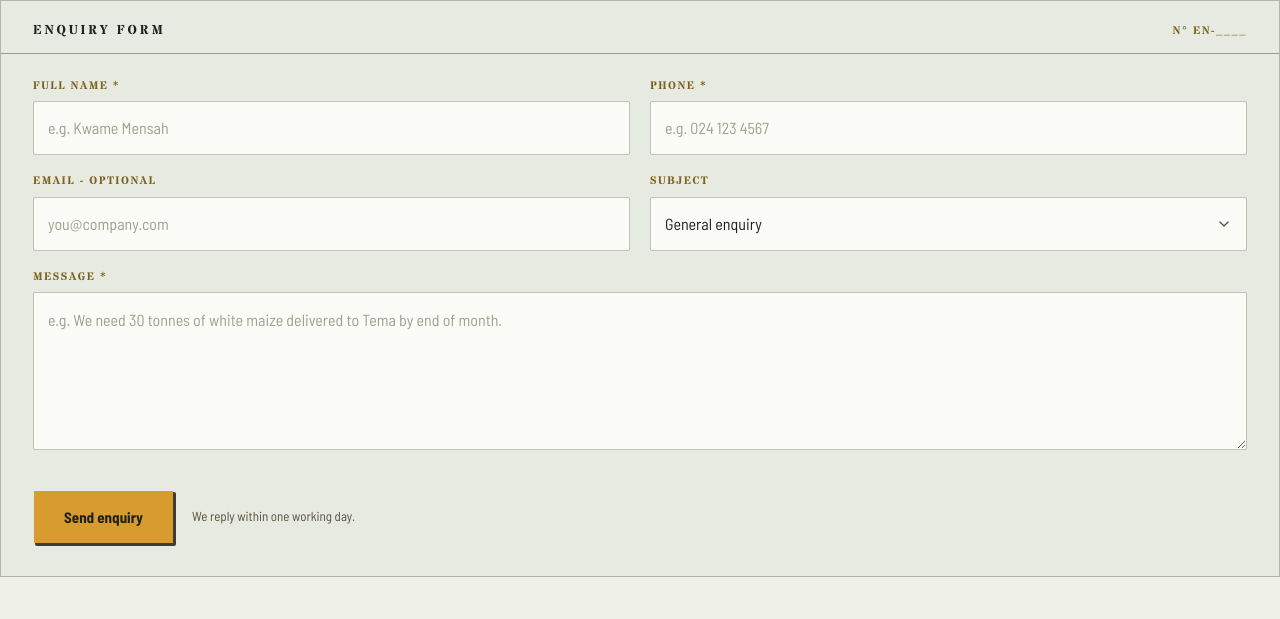
Test: EnquiryForm with Turnstile enforced › blocks submission until the challenge is solved
The width and height of the screenshot is (1280, 619).
Type "Kwame Mensah" into the field labelled "FULL NAME *".
click(332, 128); type("Kwame Mensah")  # box [33, 101, 630, 155]
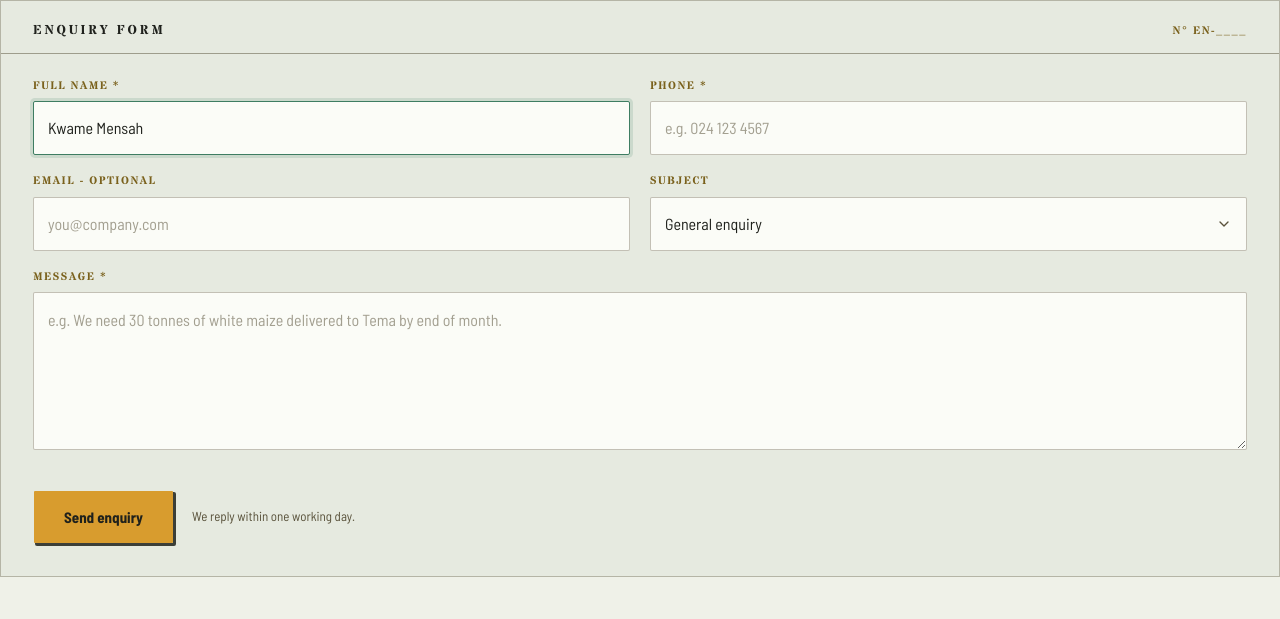
Type "024 123 4567" into the field labelled "PHONE *".
click(948, 128); type("024 123 4567")  # box [650, 101, 1247, 155]
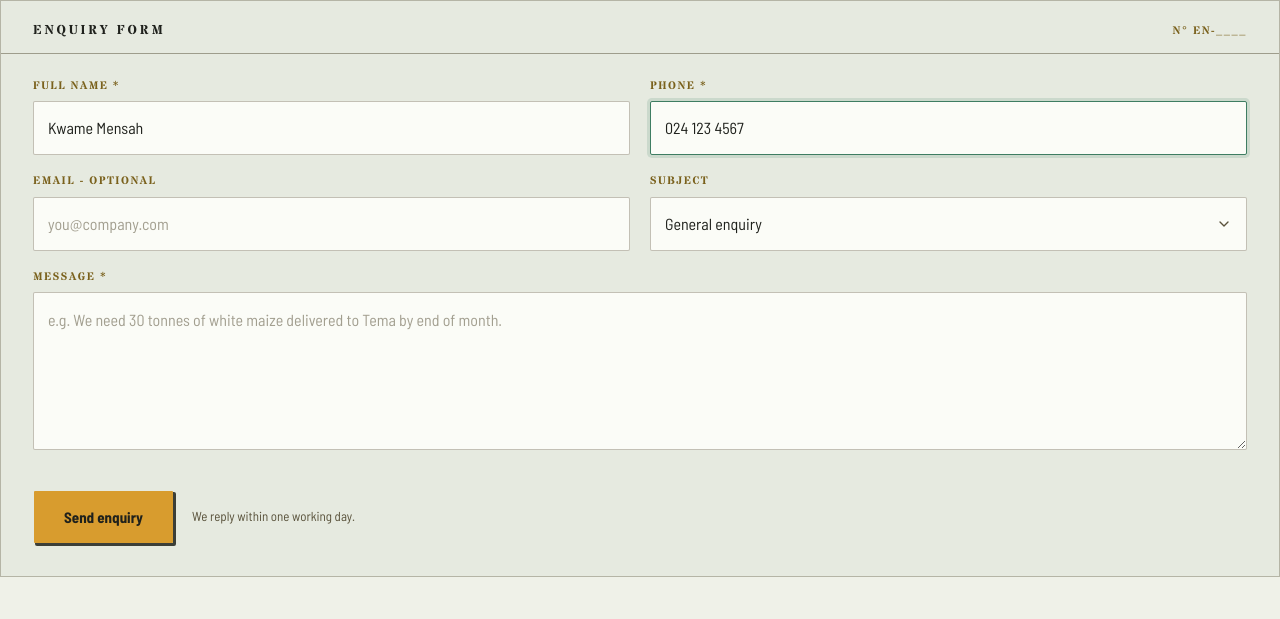
Type "30 tonnes of maize." into the text box labelled "MESSAGE *".
click(640, 371); type("30 tonnes of maize.")  # box [33, 292, 1247, 450]
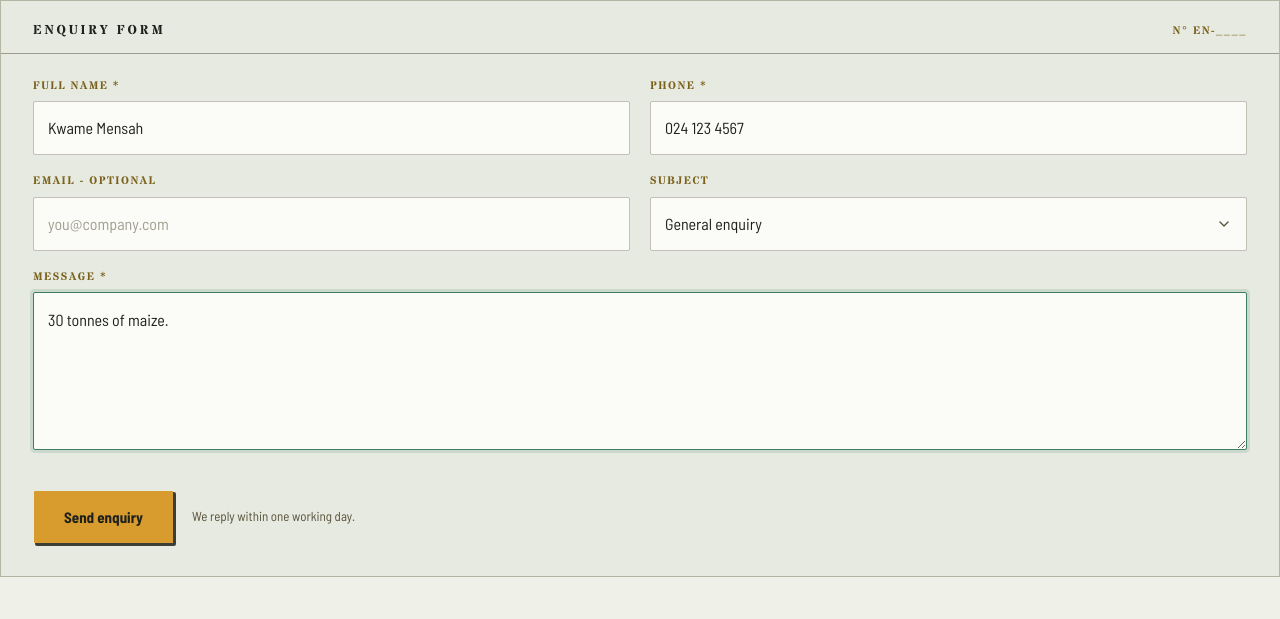
Click the button "Send enquiry".
click(104, 517)  # box [33, 490, 174, 544]
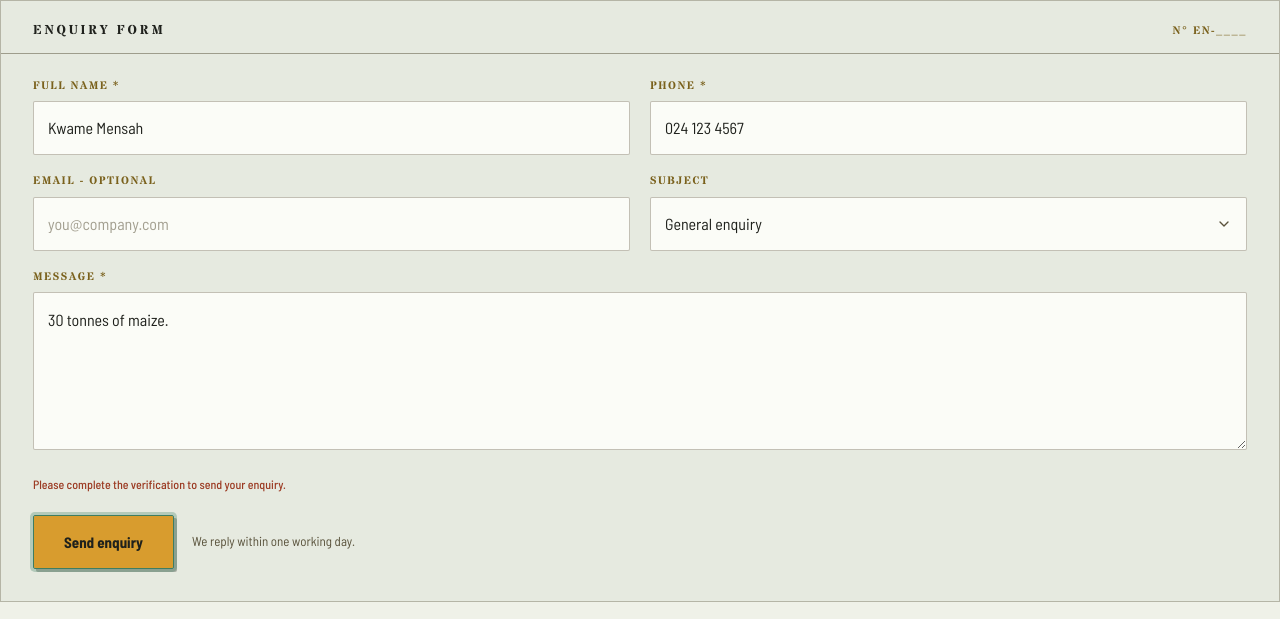
Expected: the text "Please complete the verification to send your enquiry." is shown, [33, 477, 286, 491]
